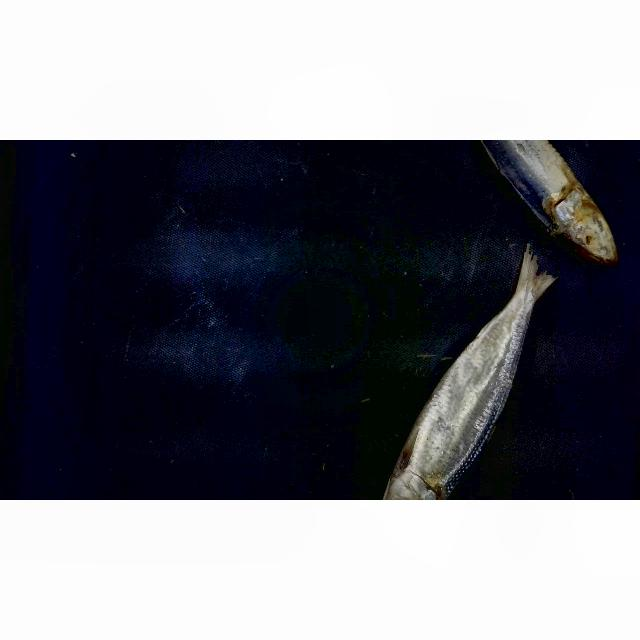Grade_A_Body: (414, 332, 534, 477)
Grade_A_Head: (531, 206, 632, 265)
Grade_A_Tail: (467, 231, 566, 361)
